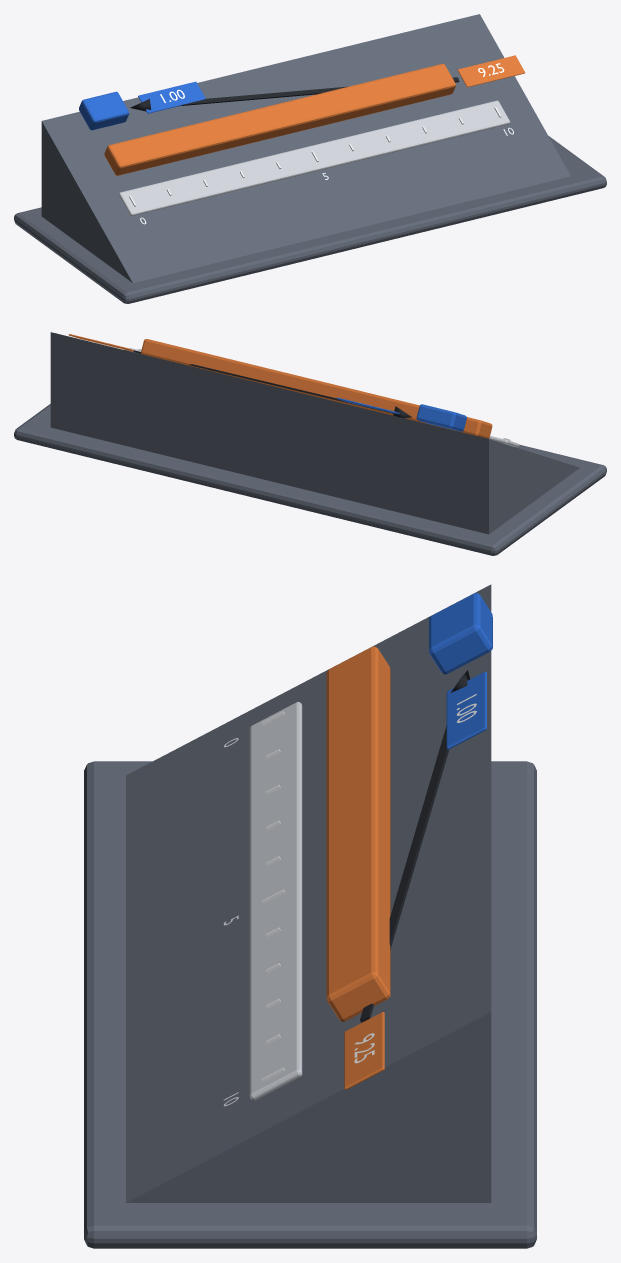
Rendered from normalizer.glb.
The picture shows the model from 3 angles, top to bottom: view 1: azimuth 30°, elevation 25°; view 2: azimuth 150°, elevation 25°; view 3: azimuth 270°, elevation 25°; orthographic projection. The views are drawn at different scales.
Parts seen in each view (by area): view 1: slope, stand, before, ruler, after, l1_p, l2_p, div_shaft; view 2: slope, stand, before, after, div_shaft; view 3: slope, stand, before, ruler, after, div_shaft, l1_p, l2_p, tick0.
Boxes of the visible parts, <box> form: slope: <box>41,14,570,282</box>; stand: <box>14,136,606,303</box>; before: <box>104,63,455,175</box>; ruler: <box>119,100,510,216</box>; after: <box>79,91,129,130</box>; l1_p: <box>457,55,525,87</box>; l2_p: <box>138,81,205,113</box>; div_shaft: <box>130,77,459,111</box>; slope: <box>50,332,579,534</box>; stand: <box>14,349,606,555</box>; before: <box>141,339,492,438</box>; after: <box>416,404,466,431</box>; div_shaft: <box>133,350,411,418</box>; slope: <box>126,584,491,1202</box>; stand: <box>84,761,536,1248</box>; before: <box>326,646,390,1021</box>; ruler: <box>249,701,302,1100</box>; after: <box>429,593,492,674</box>; div_shaft: <box>360,670,469,1022</box>; l1_p: <box>344,1012,384,1089</box>; l2_p: <box>446,671,486,749</box>; tick0: <box>223,711,284,1106</box>.
Size of the model in its own units: 1.32 by 0.3177 by 0.5374.
